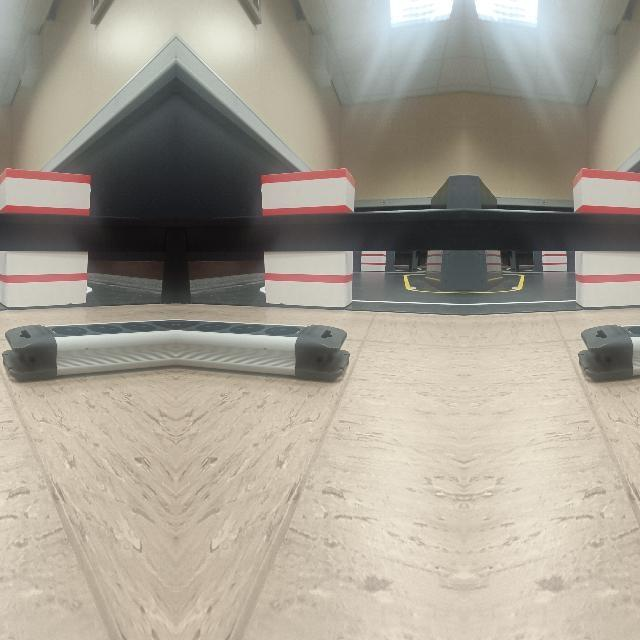obstacle: (174, 317, 350, 383), (1, 317, 176, 383), (577, 317, 640, 383)
